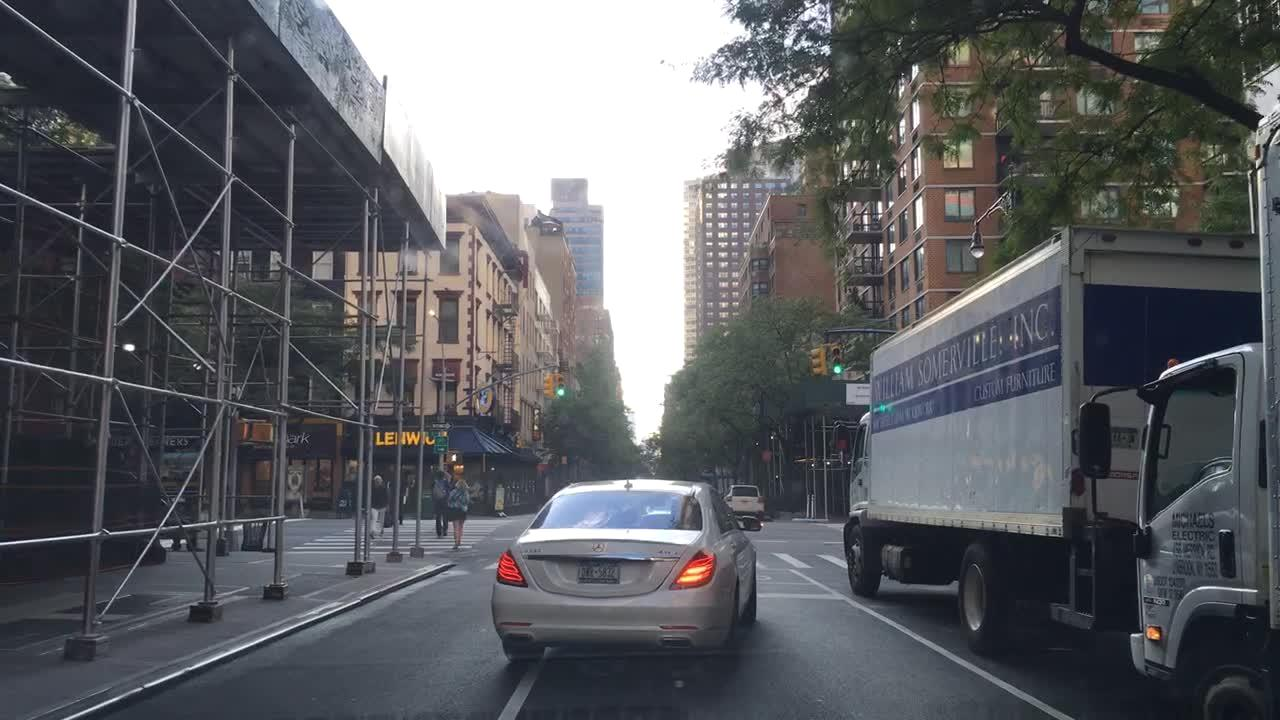Mercedes: (583, 537, 614, 556)
